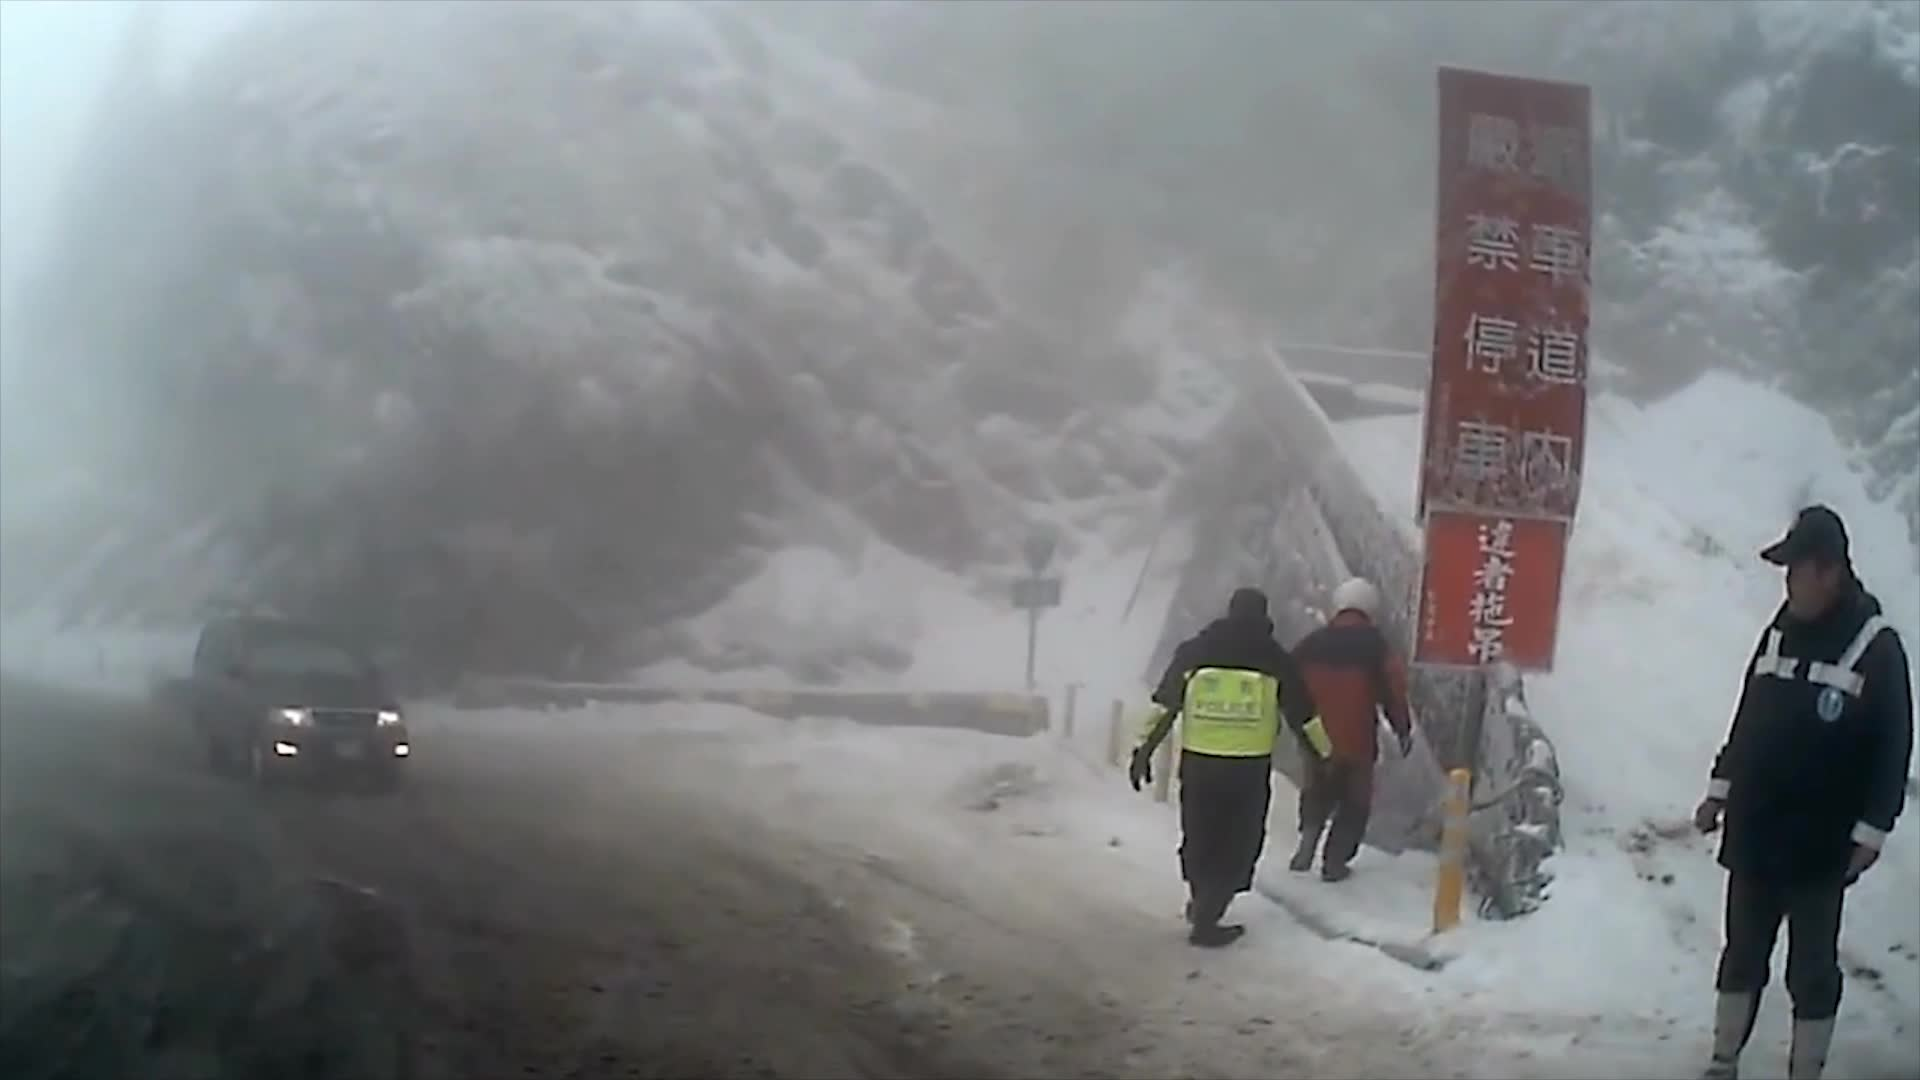pedestrian: (1693, 506, 1912, 1079), (1130, 591, 1334, 949), (1290, 579, 1414, 880)
vehicle: (189, 617, 413, 795)
